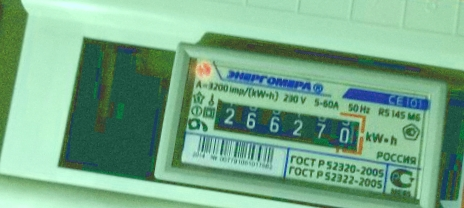0: (335, 124, 349, 145)
2: (220, 104, 237, 127), (289, 117, 304, 138)
6: (242, 110, 257, 131), (266, 113, 281, 134)
7: (312, 120, 326, 141)
screen: (197, 84, 377, 166)
